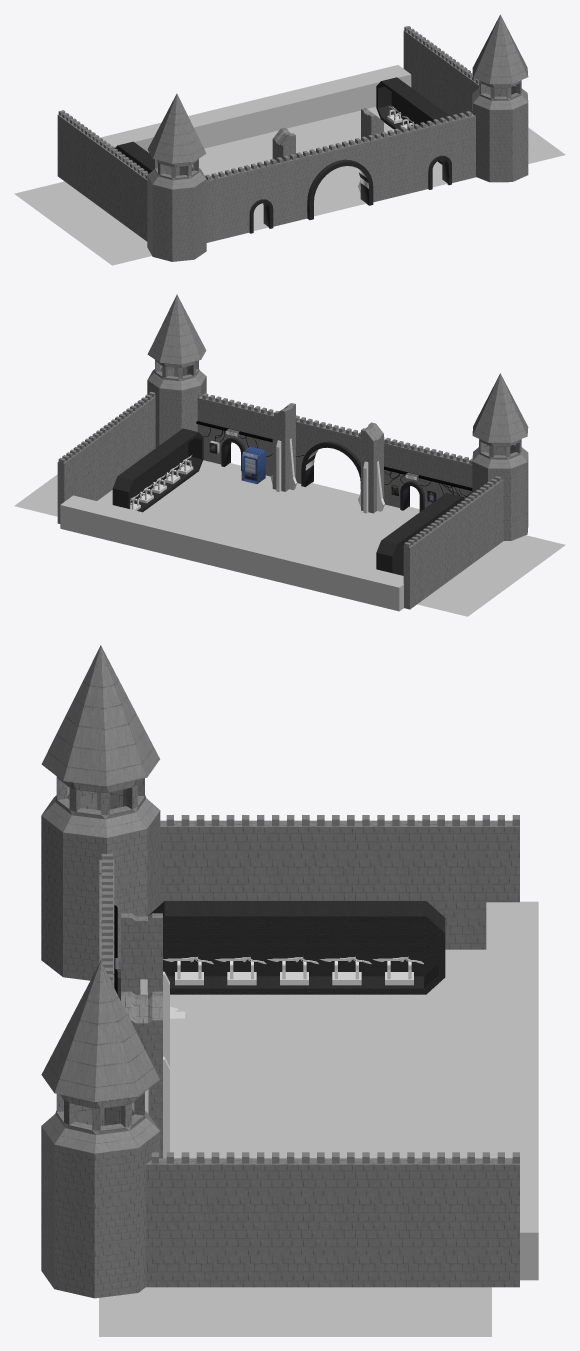
The model's file is TrainingCourse.fbx.
3 renders of one model, top to bottom at view 1: azimuth 30°, elevation 25°; view 2: azimuth 150°, elevation 25°; view 3: azimuth 270°, elevation 25°, orthographic. The views are drawn at different scales.
Visible parts, largest first — view 1: Cube.018, Cube.013, Plane.001, Cube.012, Cube.009, Cube.027, Cube.014, Cube.011, Cube.002, Circle.002, Circle.001, Circle.003; view 2: Plane.001, Cube.009, Cube.018, Cube.012, Cube.013, Cube.027, Cube.002, Cube.011, Cube.014, Cube.005, Circle.002, Cube.001 (+3 smaller); view 3: Cube.012, Plane.001, Cube.018, Cube.027, Cube.009, Cube.002, Cube.011, Cube.006, Cube.005, Cube.014.
Boxes of the visible parts, x1,y1,x2,y2 form: Cube.018: (147, 14, 528, 261); Cube.013: (206, 113, 476, 242); Plane.001: (14, 107, 565, 265); Cube.012: (57, 30, 478, 241); Cube.009: (99, 65, 411, 152); Cube.027: (114, 77, 449, 173); Cube.014: (205, 110, 472, 180); Cube.011: (58, 26, 478, 178); Cube.002: (272, 108, 383, 160); Circle.002: (307, 159, 373, 219); Circle.001: (249, 199, 273, 233); Circle.003: (428, 155, 451, 189); Plane.001: (14, 460, 565, 616); Cube.009: (60, 495, 403, 611); Cube.018: (147, 294, 528, 540); Cube.012: (57, 396, 503, 609); Cube.013: (197, 395, 472, 508); Cube.027: (112, 428, 464, 575); Cube.002: (272, 403, 383, 513); Cube.011: (58, 392, 501, 547); Cube.014: (198, 393, 472, 464); Cube.005: (271, 438, 384, 513); Circle.002: (301, 441, 360, 488); Cube.001: (241, 446, 265, 483); Cube.012: (145, 820, 519, 1287); Plane.001: (99, 949, 491, 1336); Cube.018: (41, 645, 160, 1298); Cube.027: (148, 901, 445, 994); Cube.009: (486, 901, 538, 1280); Cube.002: (121, 913, 162, 1158); Cube.011: (151, 815, 519, 1163); Cube.006: (175, 960, 413, 985); Cube.005: (140, 971, 169, 1158); Cube.014: (101, 853, 112, 984).
Bounding box in the file's own units: 4000 × 1324 × 1899.
